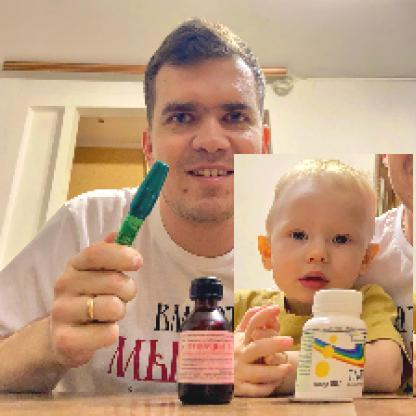child: (235, 155, 415, 400)
